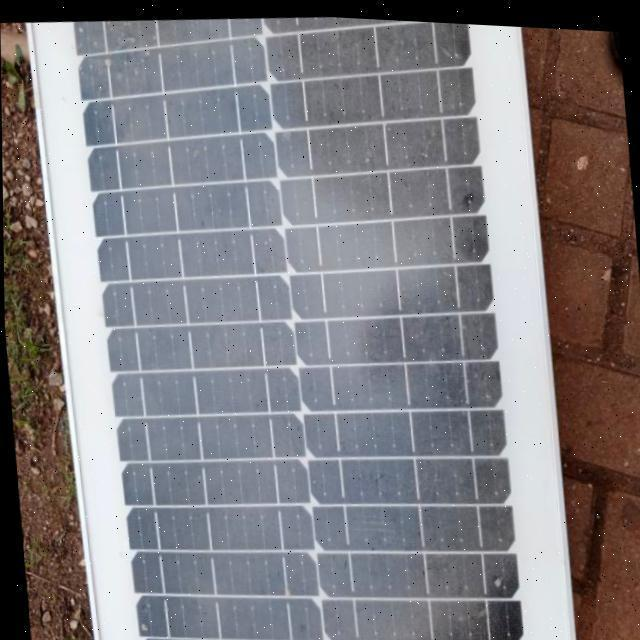Anomaly Solar Panel: (51, 2, 549, 640)
Surface Contaminant: (65, 13, 526, 640)
